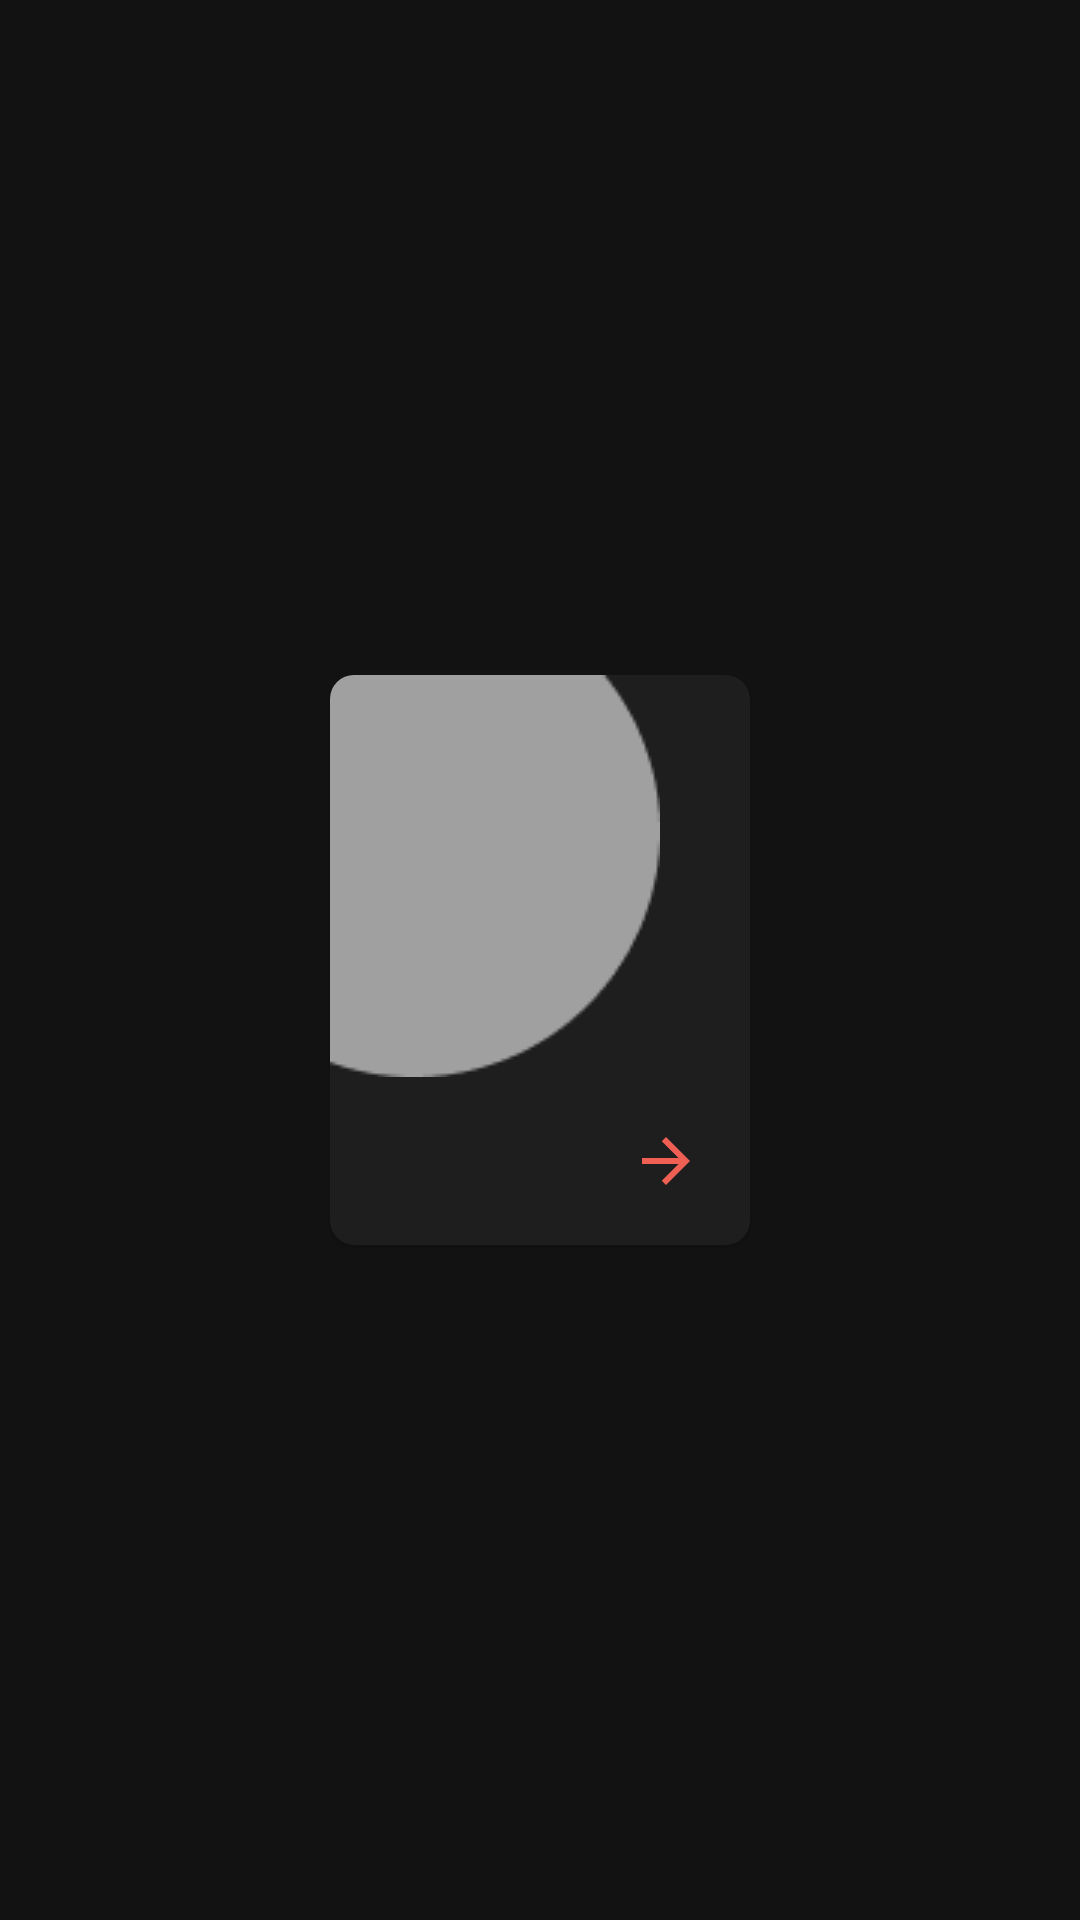

Icon click points for this 1080px x 1920px phone screenshot, format (x=x, y=y):
arrow right: (x=666, y=1161)
